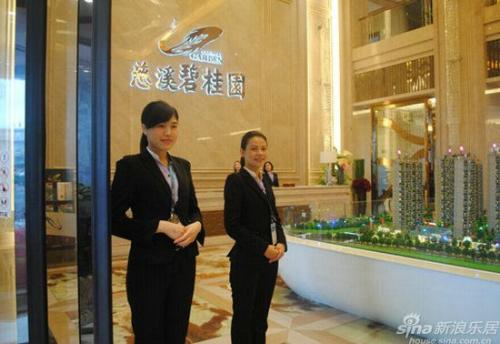person: (110, 100, 206, 344), (223, 131, 288, 344)
